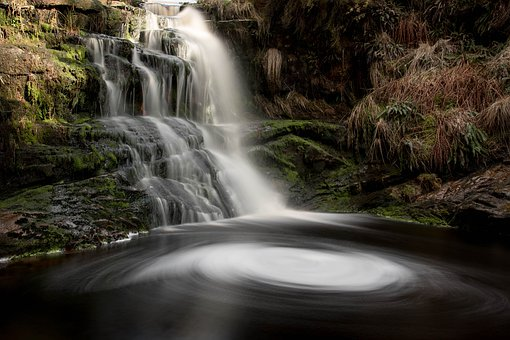mountain: (10, 4, 509, 253)
waterfall: (81, 6, 306, 278)
